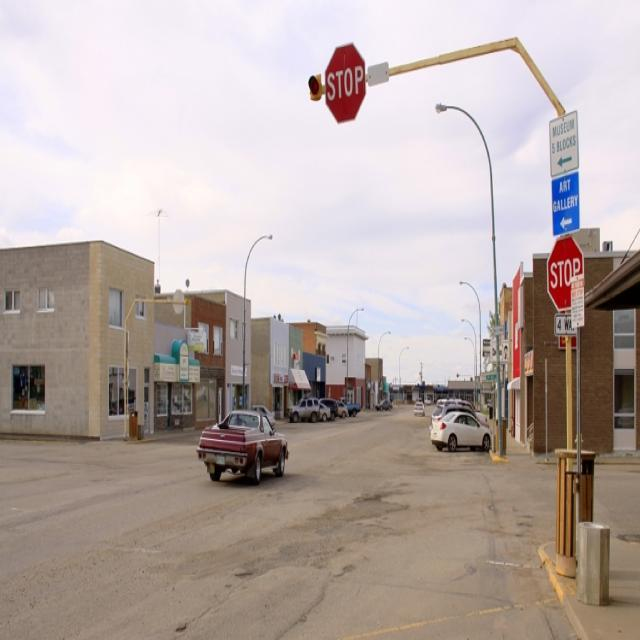obstructed_road_sign: (547, 236, 585, 313)
road_sign: (326, 45, 366, 123)
